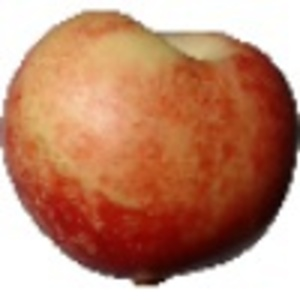nectarina: (1, 8, 300, 289)
